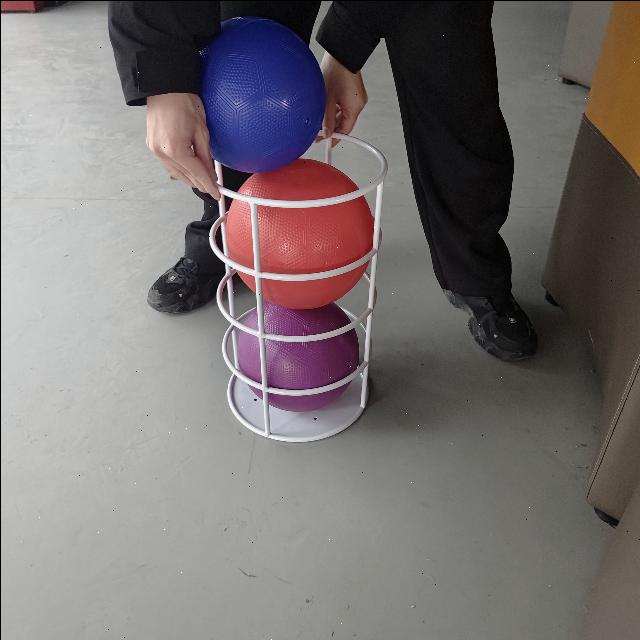B: (202, 8, 332, 168)
P: (232, 304, 362, 404)
R: (218, 158, 374, 306)
S: (213, 142, 389, 438)
